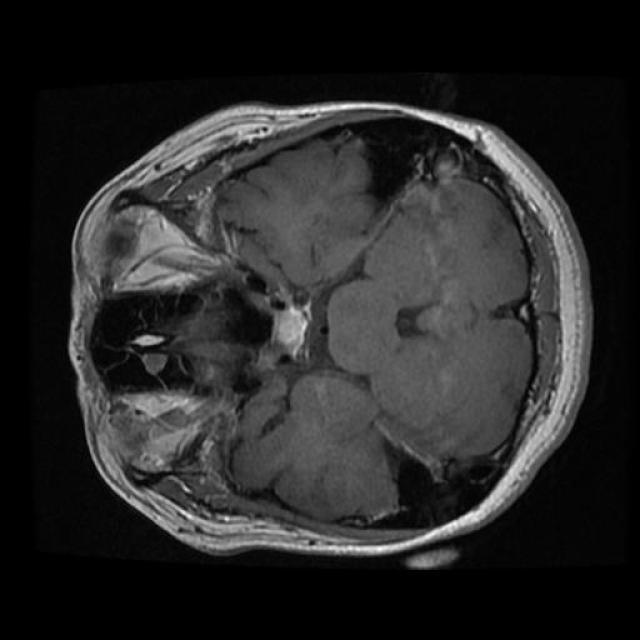Pituitary: (256, 284, 311, 370)
